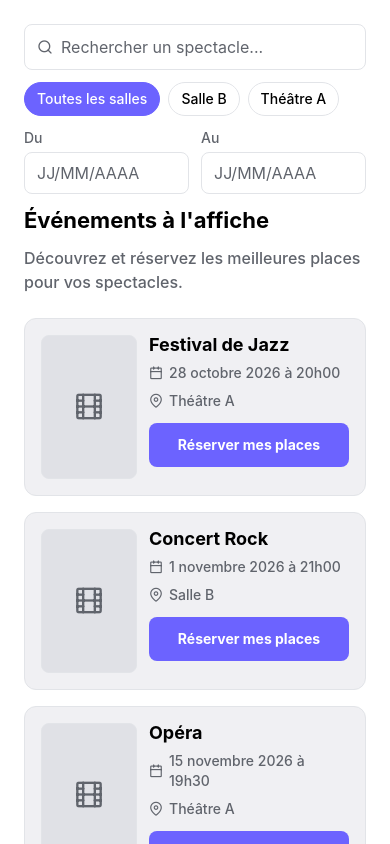
EventsListScreen › filtres par date et par lieu (#21) › combine la salle et les dates
Click the button "Théâtre A" at (293, 99), box x1=248 y1=82 x2=339 y2=116
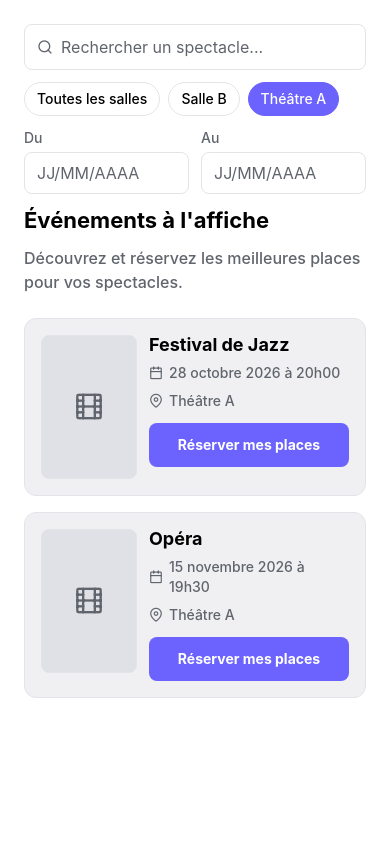
Type "01/11/2026" into the field named "Du" at (106, 173), box x1=24 y1=152 x2=189 y2=194
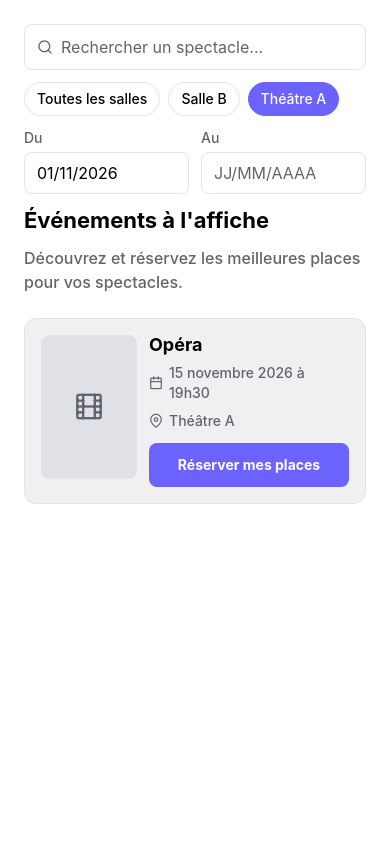
Expected: the text "Opéra" is shown, x1=149 y1=334 x2=202 y2=355
Expected: the text "Festival de Jazz" is gone
